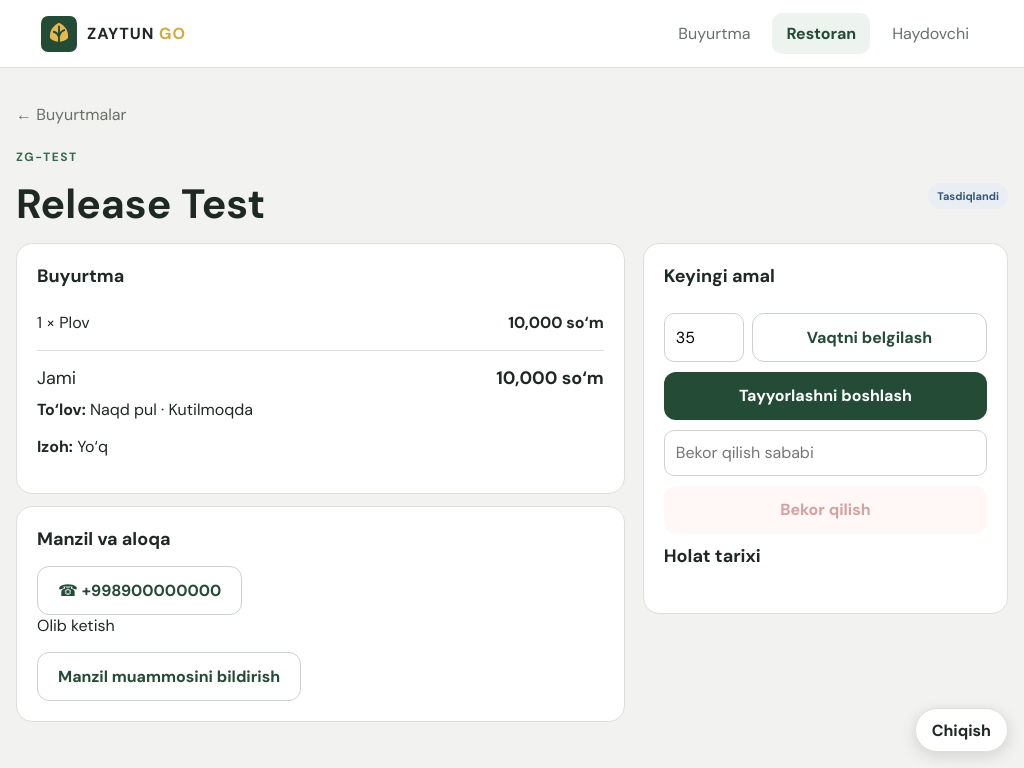
Test: restaurant lifecycle transition guard › clears pending state after success and exposes the next action after reconciliation
This screenshot has width=1024, height=768.
Click the button with test id "action-start-prep" at (825, 396), box [664,372,987,420]
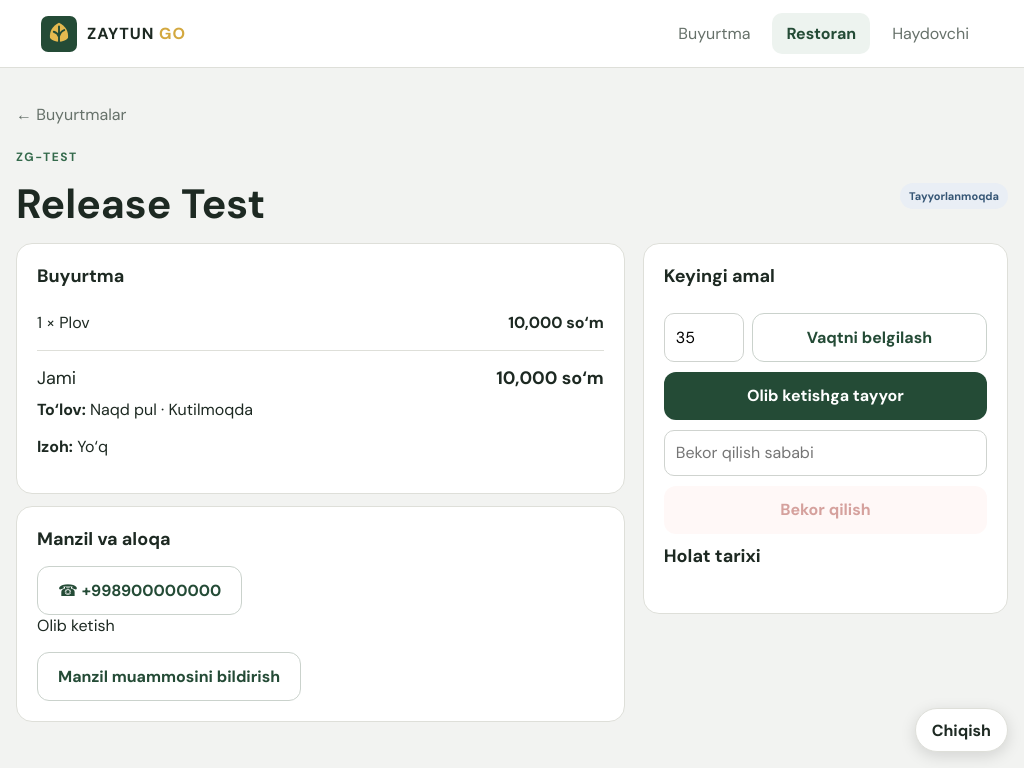
Expected: the button with test id "action-mark-ready" is enabled, [664,372,987,420]
Expected: the button with test id "action-start-prep" is gone
